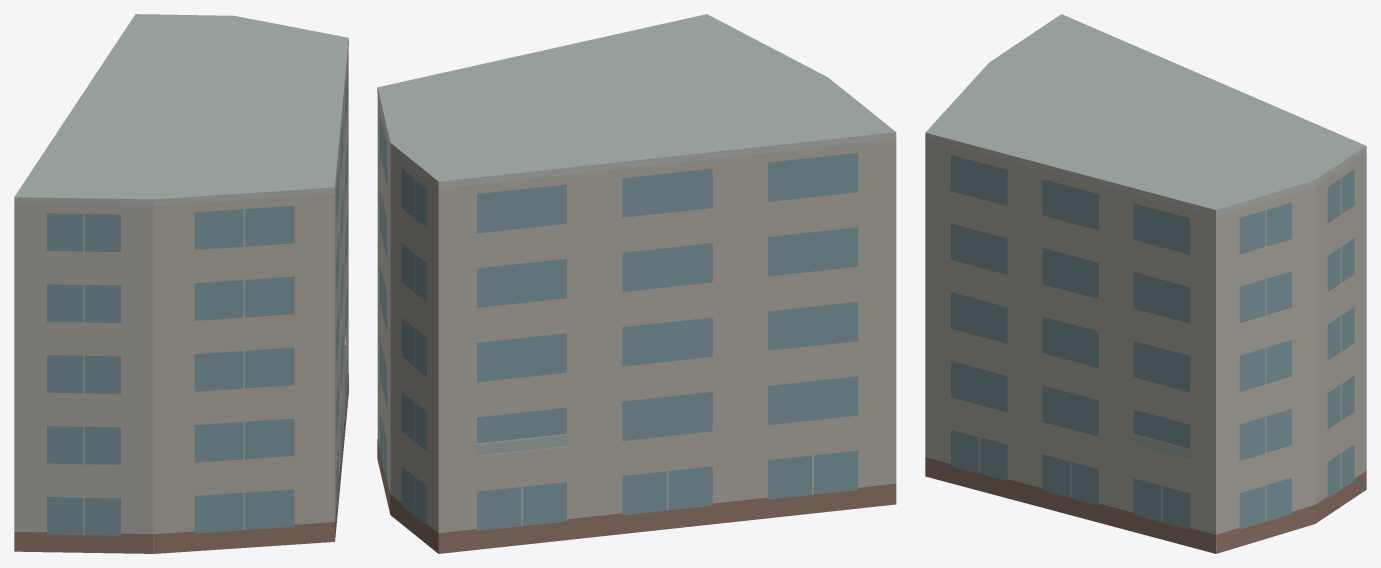
File: survey-upis-33038946.glb
3 views of the same model, side by side, from view 1: azimuth 30°, elevation 25°; view 2: azimuth 150°, elevation 25°; view 3: azimuth 270°, elevation 25° (orthographic). The views are drawn at different scales.
Visible parts, largest first — view 1: survey-upis-33038946.tmp; view 2: survey-upis-33038946.tmp; view 3: survey-upis-33038946.tmp.
Boxes of the visible parts, left/top/right/bottom form: survey-upis-33038946.tmp: left=14, top=14, right=348, bottom=553; survey-upis-33038946.tmp: left=377, top=14, right=896, bottom=553; survey-upis-33038946.tmp: left=925, top=14, right=1366, bottom=553.
Bounding box in the file's own units: 16.15 × 13.2 × 15.36.
